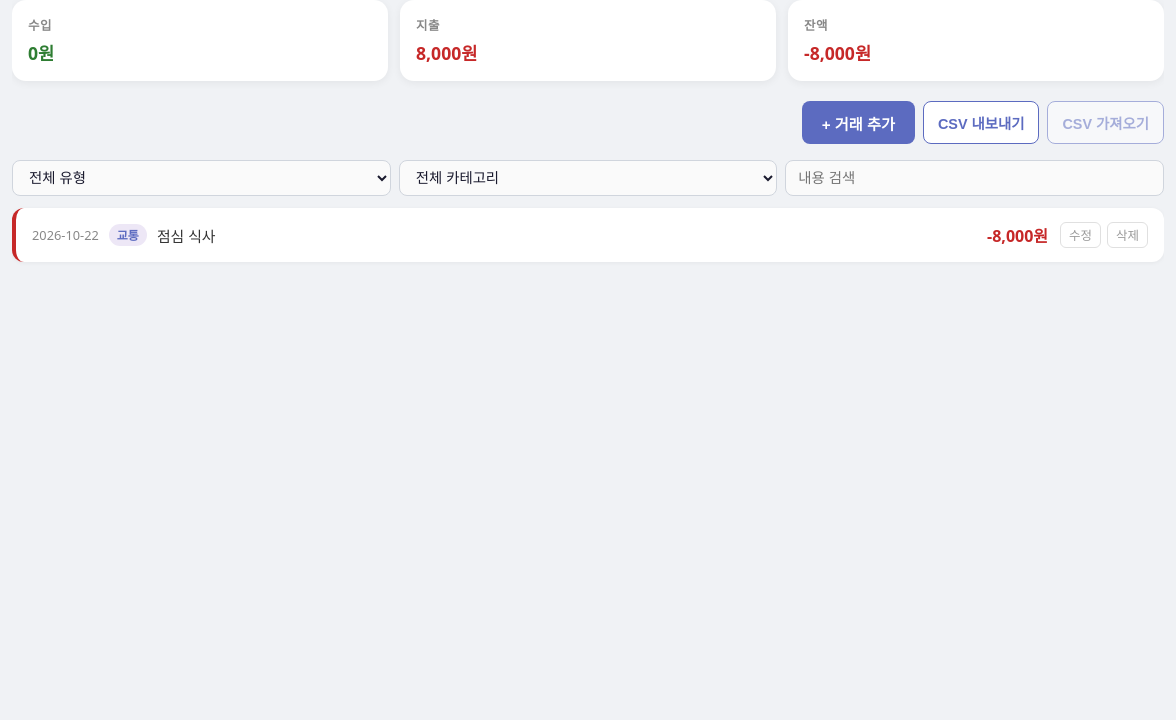
Test: (c) 수정 취소 시 폼이 닫히고 입력값이 초기화된다
Click the button with aria-label "수정: 점심 식사": {"x": 1081, "y": 235} [1060,222,1101,248]
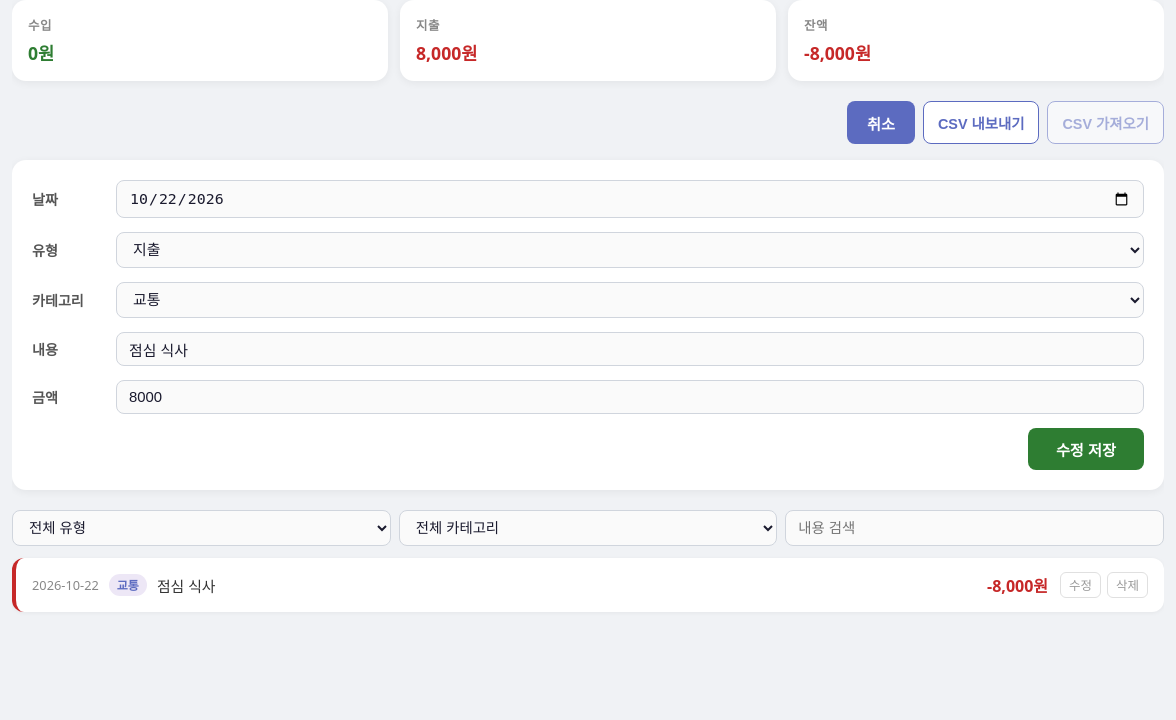
Click the button "취소": {"x": 881, "y": 122} [847,101,915,144]
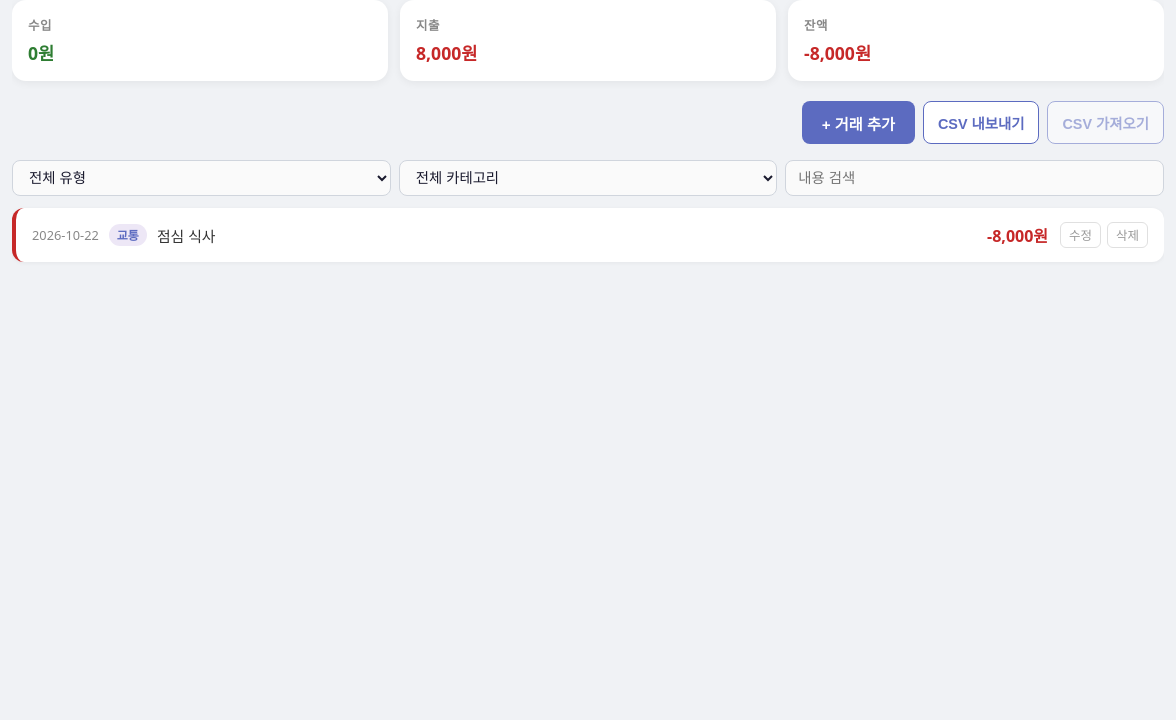
Expected: the field with placeholder "금액 (원)" is not shown
Click the button "+ 거래 추가": {"x": 858, "y": 122} [802,101,915,144]
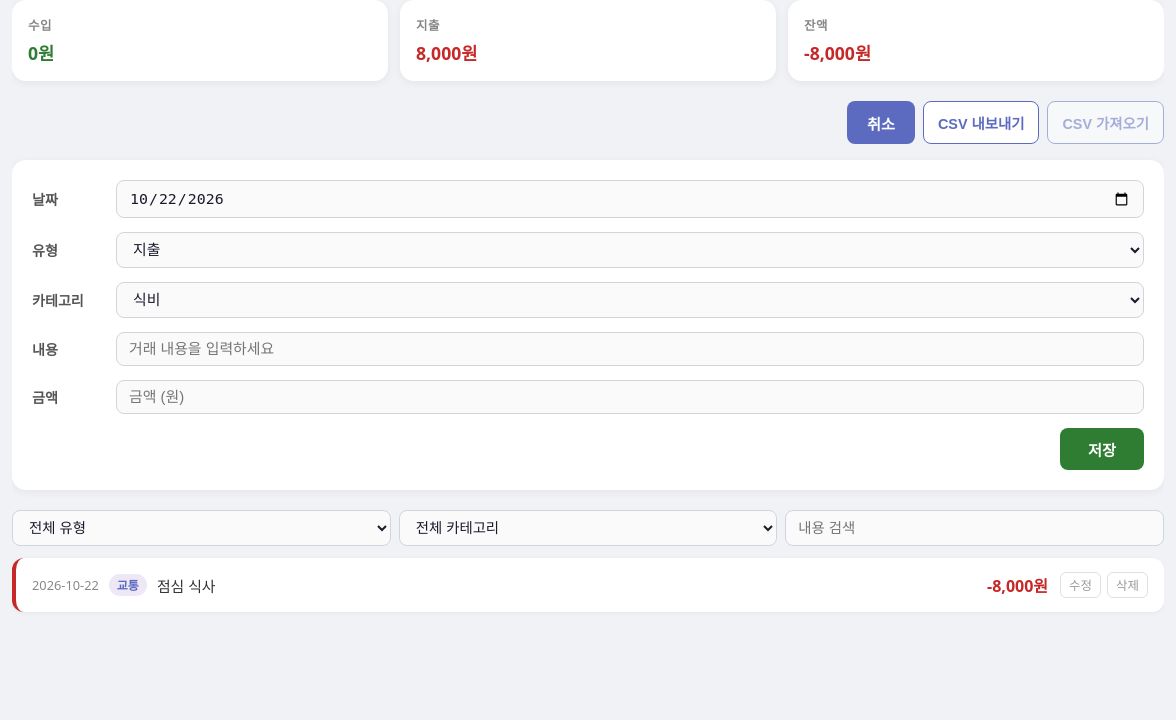
Expected: the field with placeholder "거래 내용을 입력하세요" is empty, [116,332,1144,366]
Expected: the button "저장" is shown, [1060,428,1144,470]
